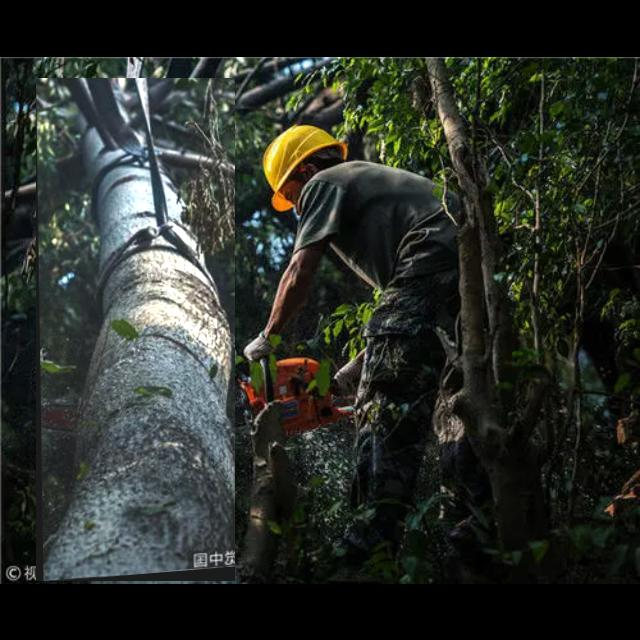Fallen Tree: (36, 78, 236, 582)
